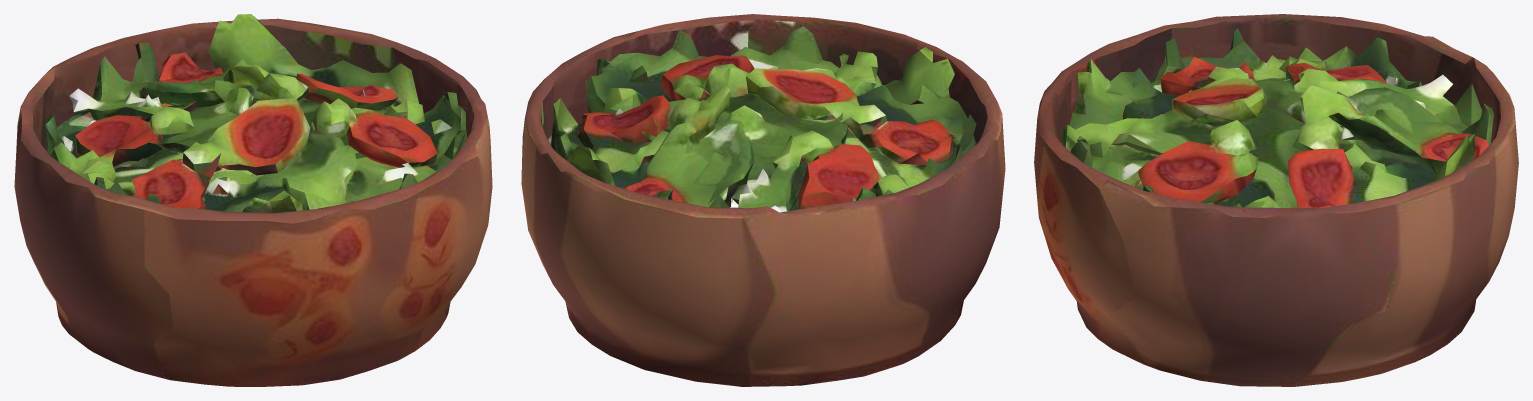
The model's file is goat_cheese_salad.glb.
The picture shows the model from 3 angles, left to right: view 1: azimuth 30°, elevation 25°; view 2: azimuth 150°, elevation 25°; view 3: azimuth 270°, elevation 25°; orthographic projection.
Visible parts, largest first — view 1: goat_cheese_salad; view 2: goat_cheese_salad; view 3: goat_cheese_salad.
Boxes of the visible parts, x1,y1,x2,y2 form: goat_cheese_salad: (14,14,492,386); goat_cheese_salad: (521,14,1005,386); goat_cheese_salad: (1034,14,1518,386).
Size of the model in its own units: 0.9981 by 0.5182 by 1.
Materials: 1 (1 with a texture image).
